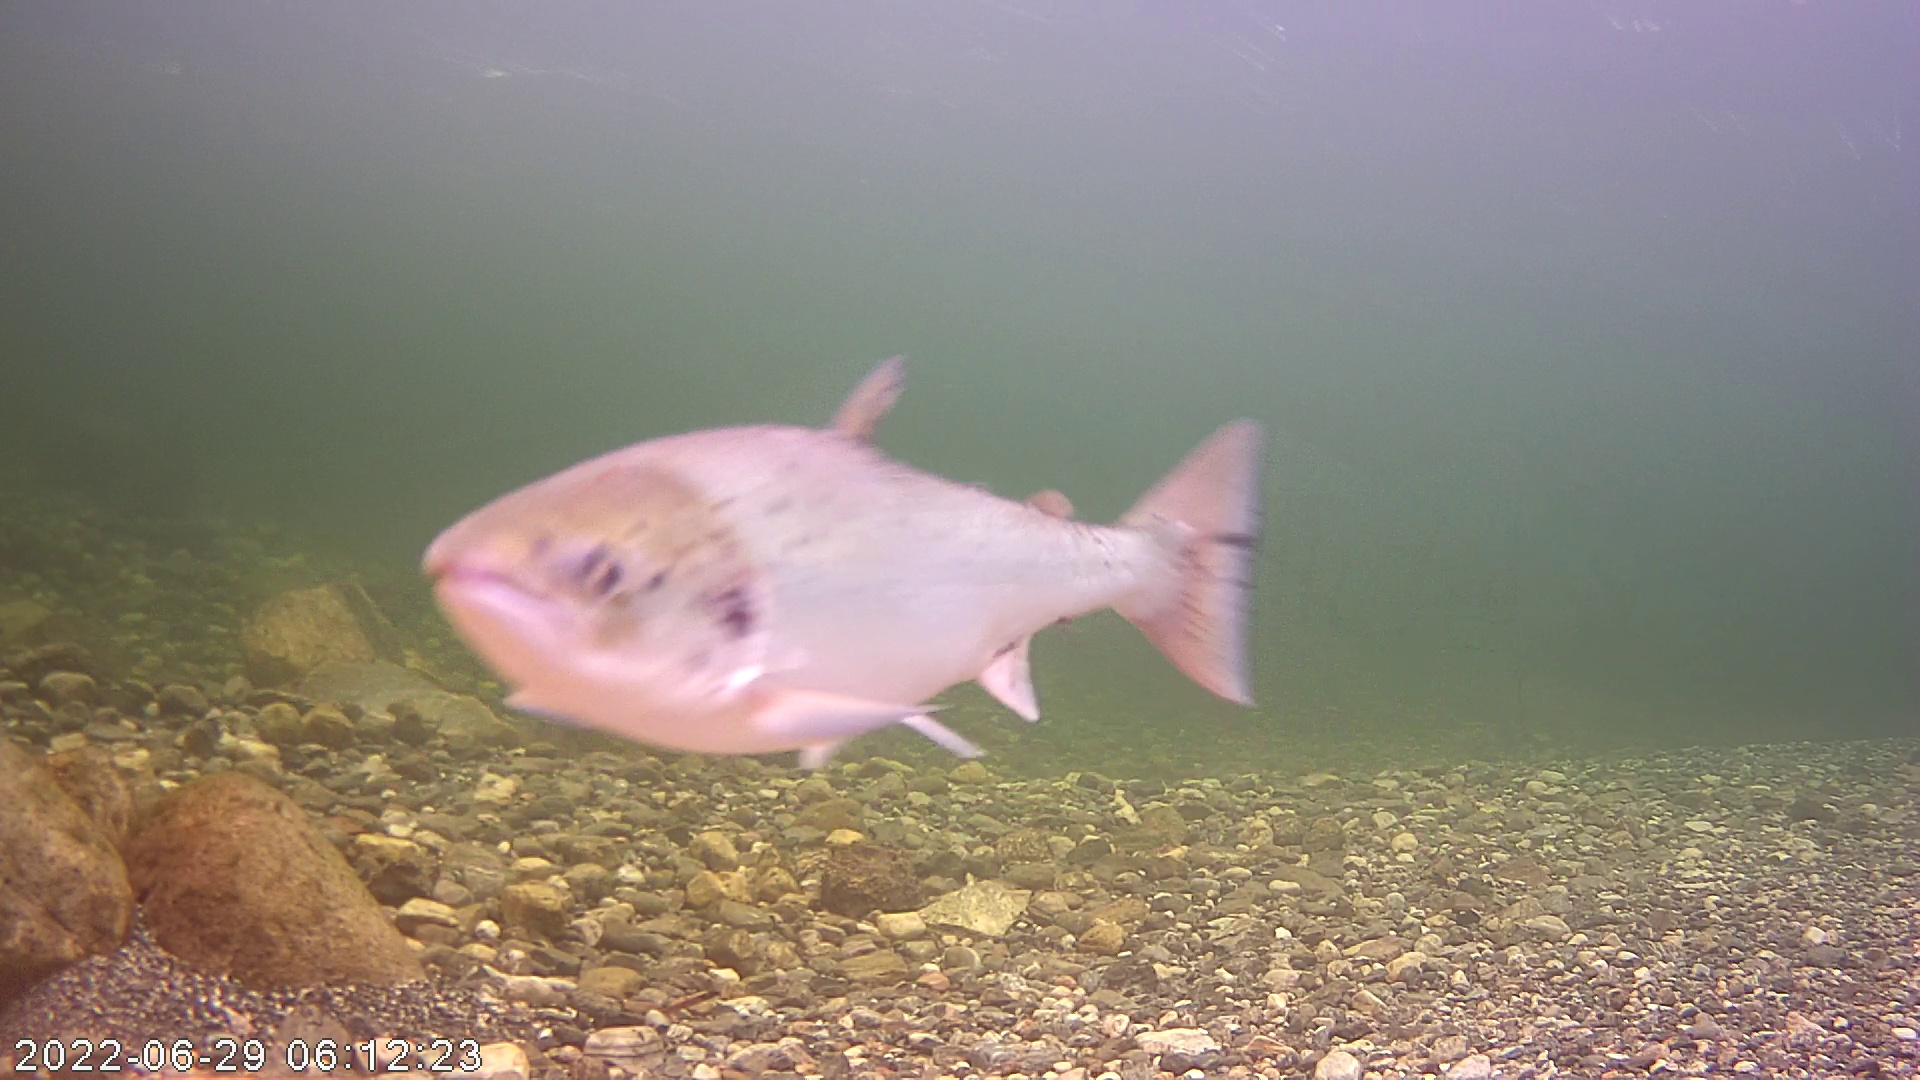salmon: (404, 331, 1275, 790)
